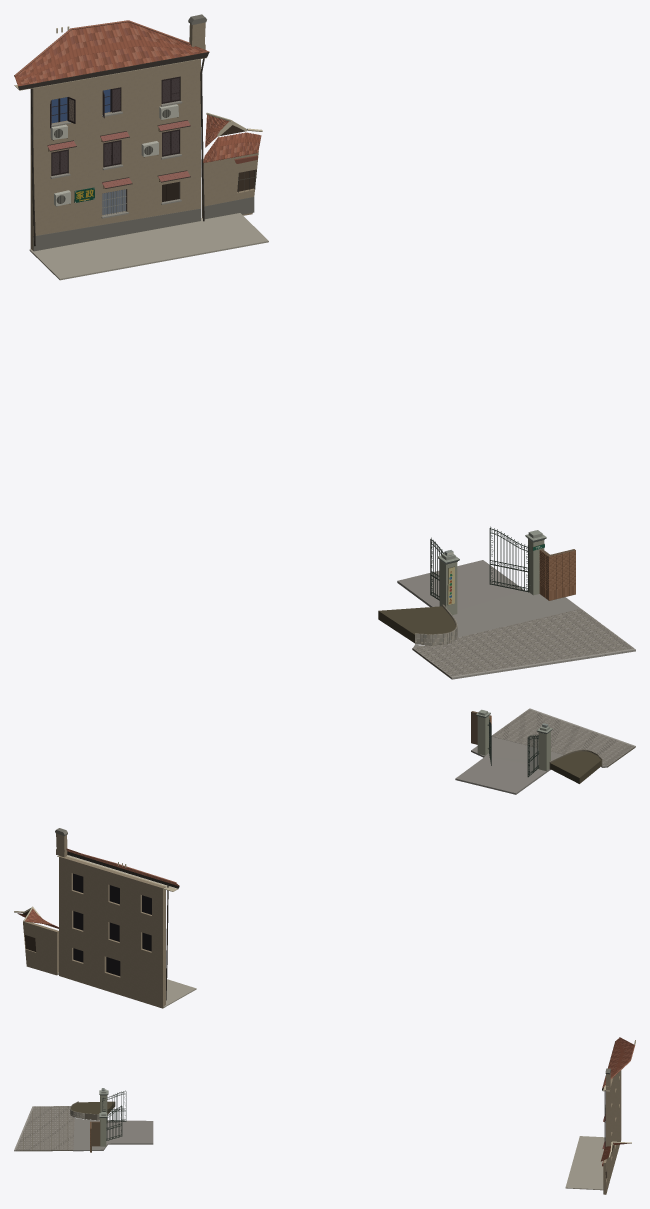
File: huangpu-zhengjia-lane-39-street-gate-raw.glb
3 views of the same model, one above another, from view 1: azimuth 30°, elevation 25°; view 2: azimuth 150°, elevation 25°; view 3: azimuth 270°, elevation 25° (orthographic). The views are drawn at different scales.
Visible parts, largest first — view 1: 永嘉路39弄郑家衖弄口与院内横屋; view 2: 永嘉路39弄郑家衖弄口与院内横屋; view 3: 永嘉路39弄郑家衖弄口与院内横屋.
Boxes of the visible parts, x1=… form: 永嘉路39弄郑家衖弄口与院内横屋: x1=14, y1=14, x2=635, y2=679; 永嘉路39弄郑家衖弄口与院内横屋: x1=14, y1=708, x2=635, y2=1008; 永嘉路39弄郑家衖弄口与院内横屋: x1=14, y1=1037, x2=635, y2=1194.
Size of the model in its own units: 19.15 by 10.98 by 55.47.
Materials: 62 (1 with a texture image).
